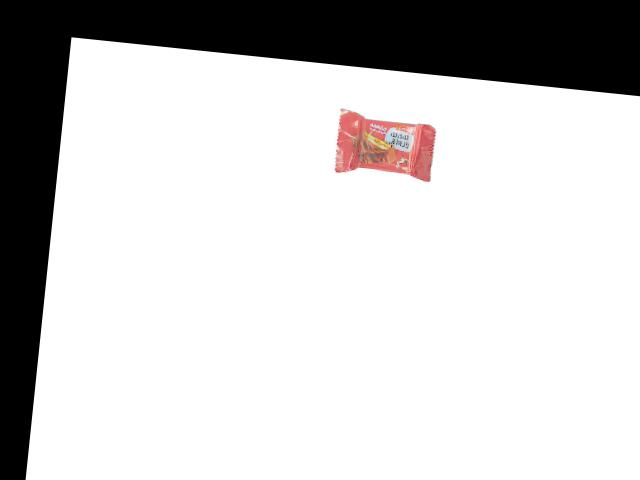chocolate: (333, 102, 446, 182)
